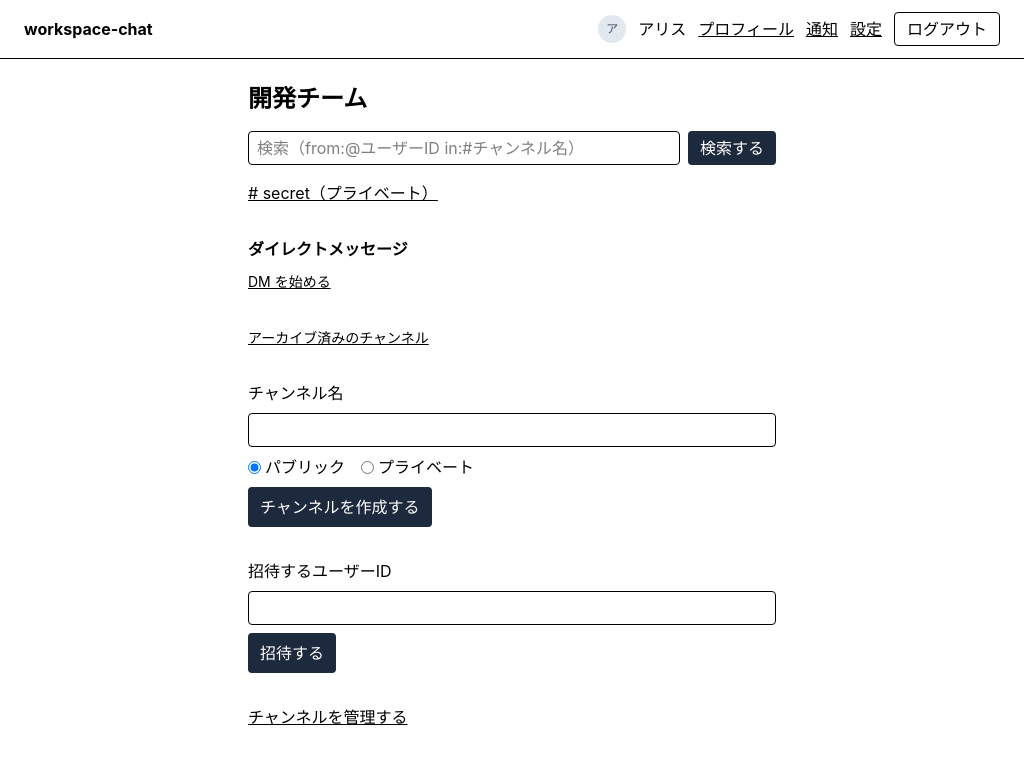
Test: プライベートチャンネルへの招待（F-08） › オーナーが招待したら、管理用の一覧のそのチャンネルの人数を、取り直しを待たずに1人増やす
Click the button "チャンネルを管理する".
click(328, 717)  # box [248,705,408,729]
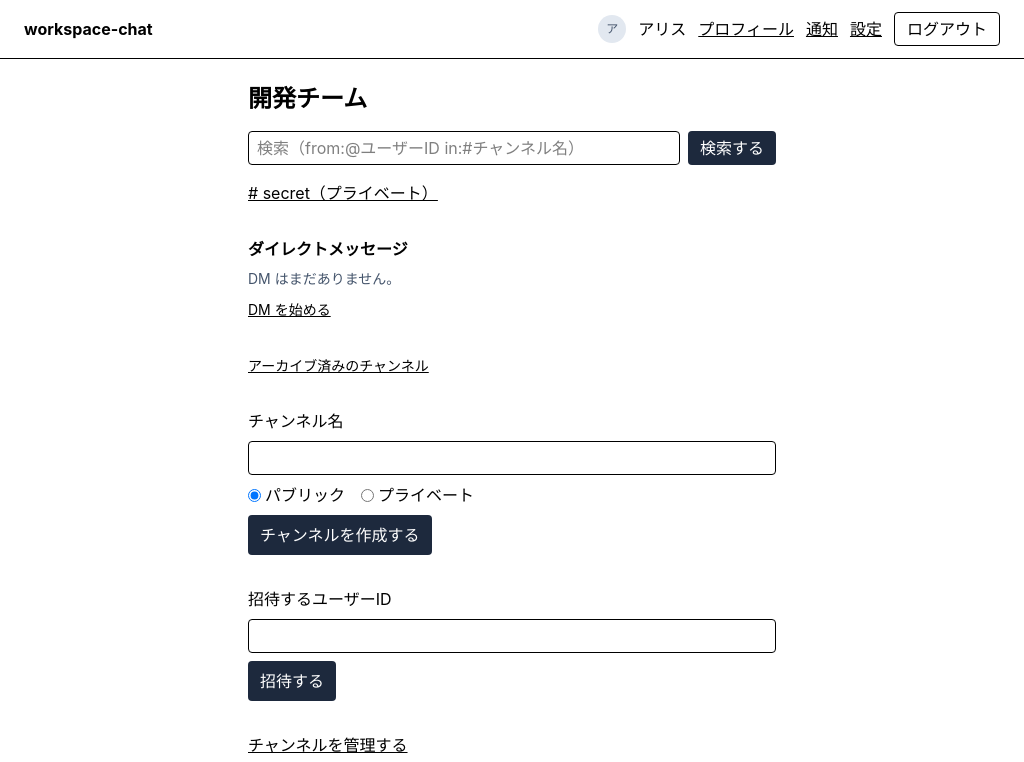
Click the link "# secret（プライベート）".
click(343, 193)  # box [248,181,438,205]
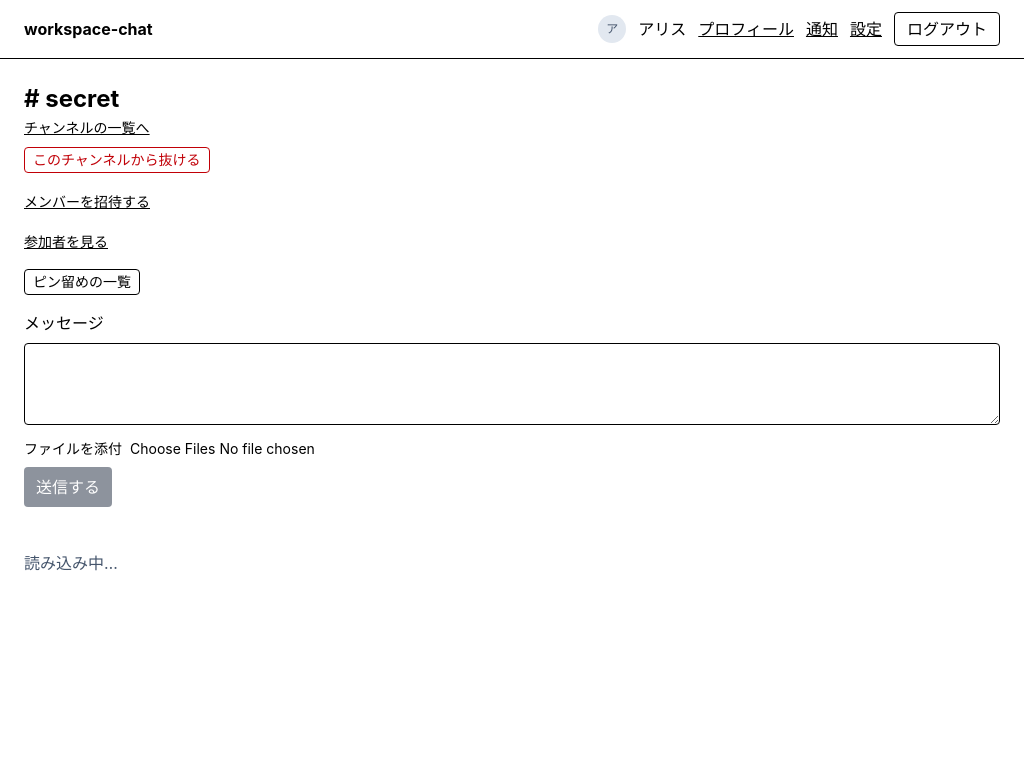
Click the button "メンバーを招待する".
click(87, 202)  # box [24,192,150,212]
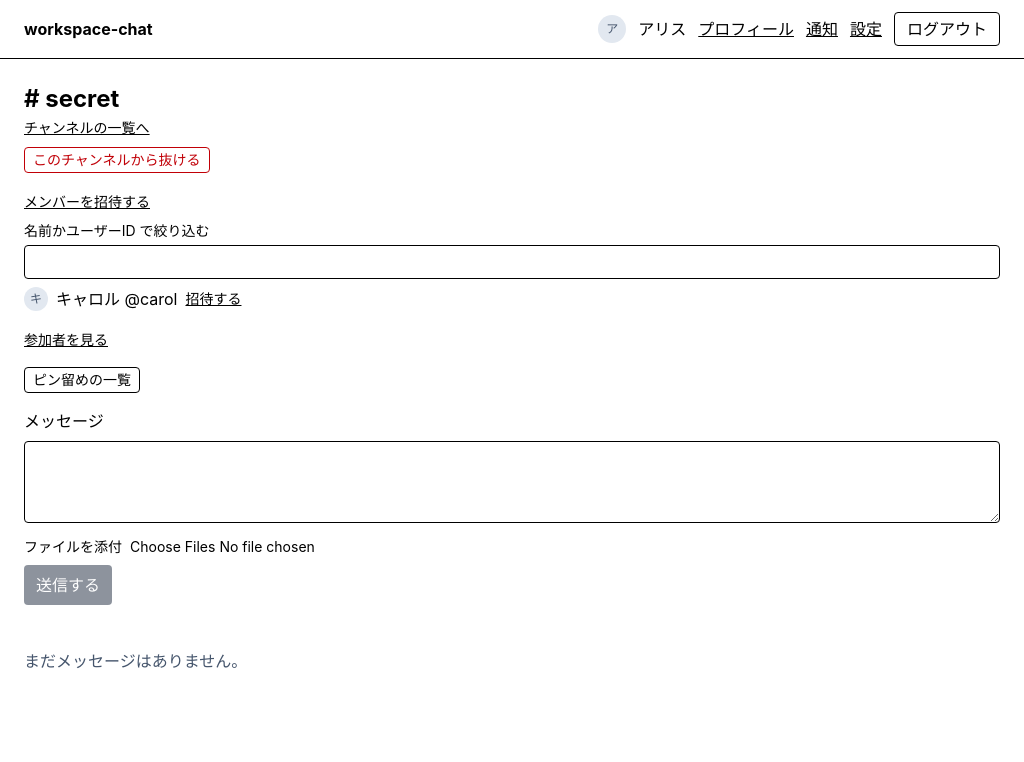
Click the button with aria-label "キャロル を招待する".
click(214, 299)  # box [186,289,242,309]
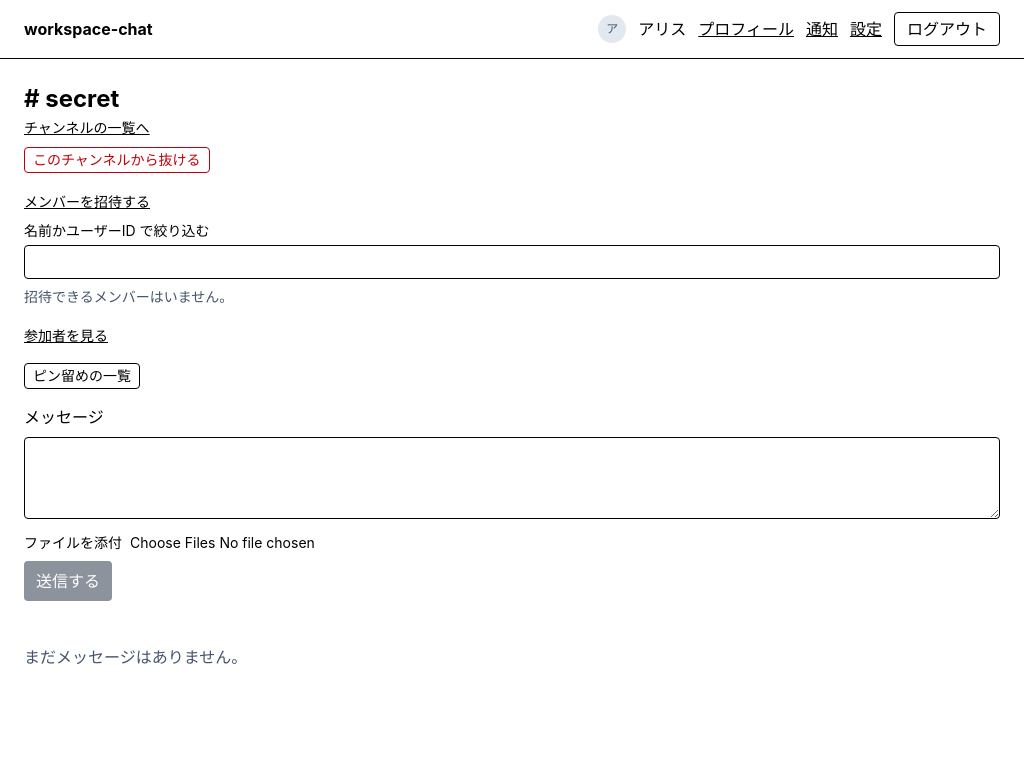
expect the text "招待できるメンバーはいません。" is shown: met, box [24,288,233,305]
Click the link "チャンネルの一覧へ".
click(87, 128)  # box [24,119,150,136]
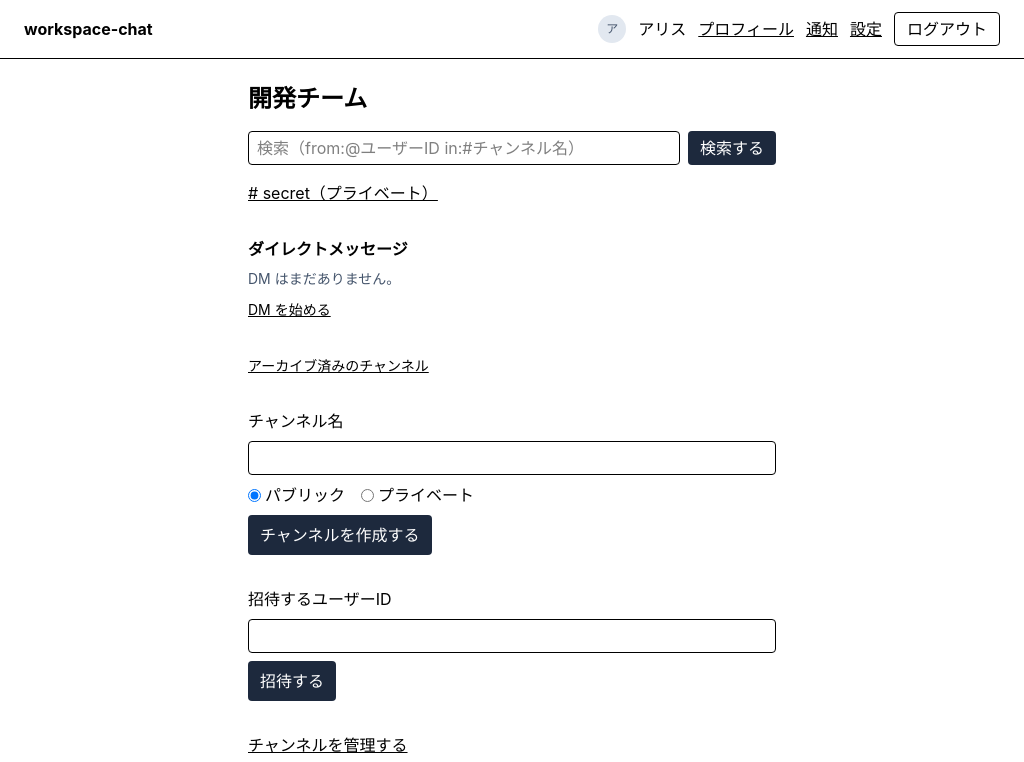
Click the button "チャンネルを管理する".
click(328, 745)  # box [248,733,408,757]
(page scrolled)
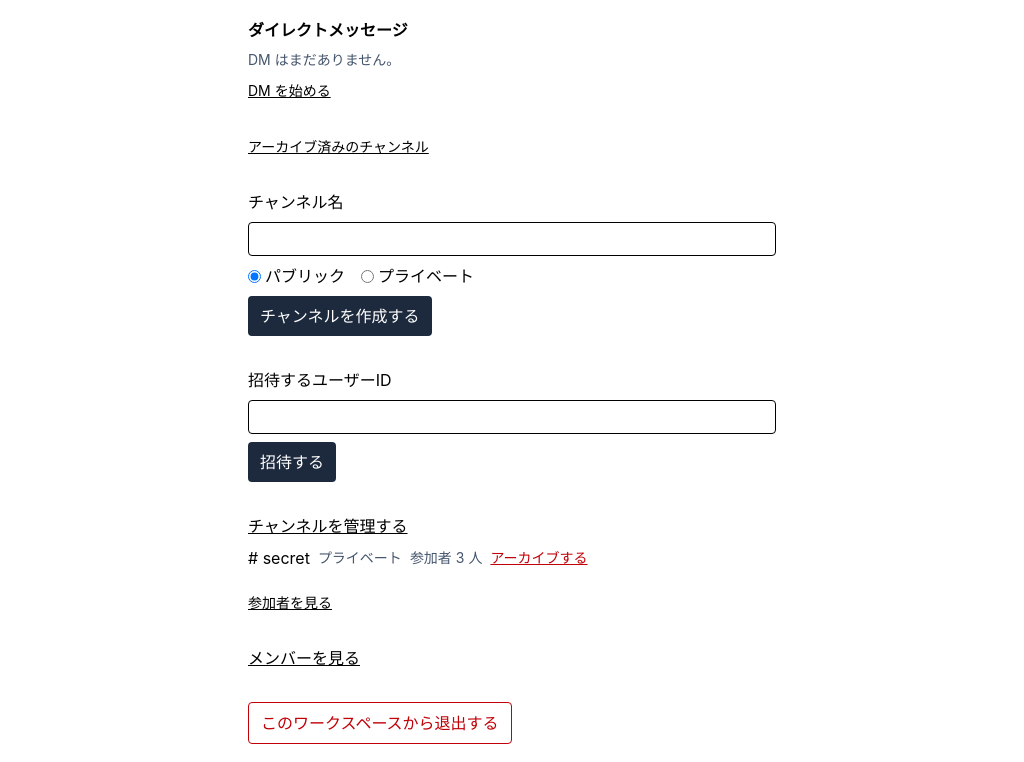
expect the text "参加者 3 人" is shown: met, box [410,548,482,568]
